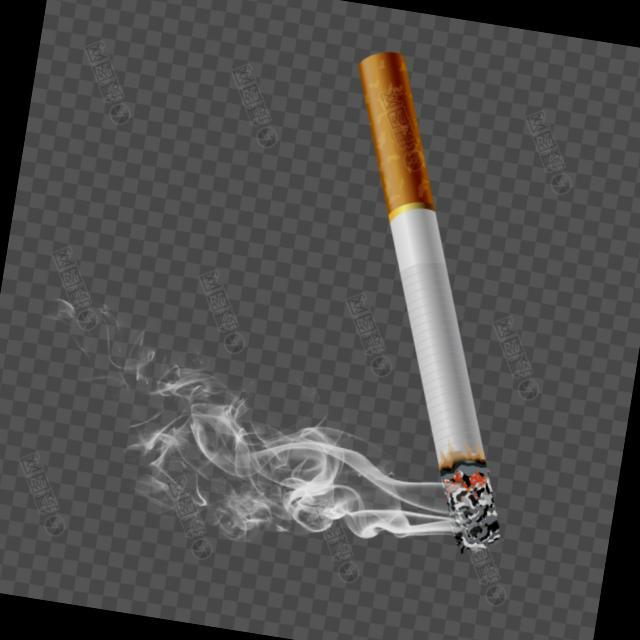cigarette: (266, 42, 580, 560)
